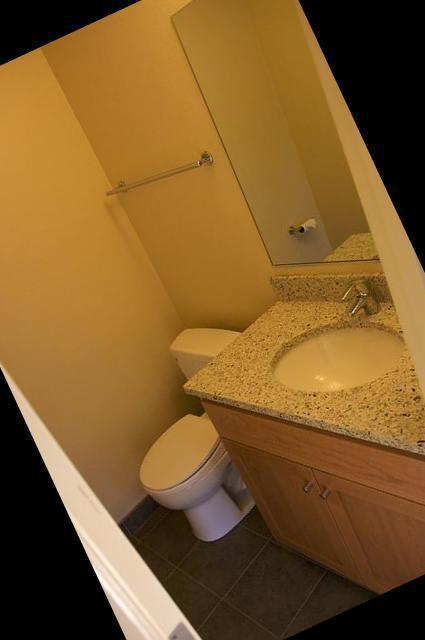Lavamanos: (221, 260, 425, 449)
Sanitario: (74, 285, 333, 571)
